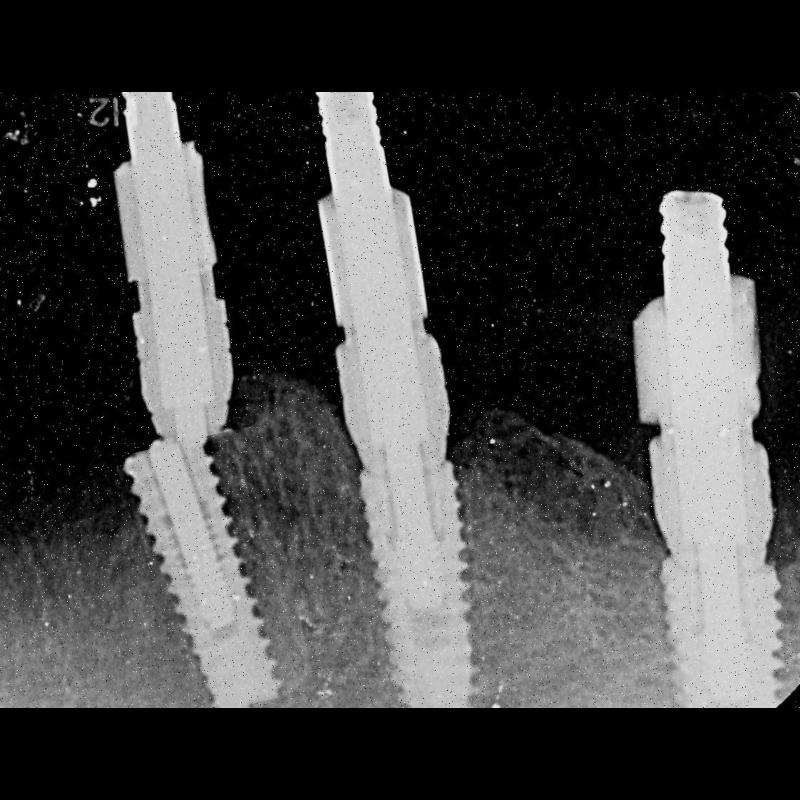osstem: (135, 431, 302, 708), (355, 470, 495, 707), (639, 550, 795, 708)
